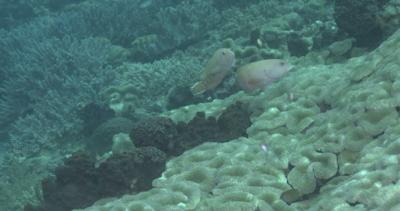Serranidae -Groupers-: (224, 50, 293, 102), (184, 43, 240, 101)
